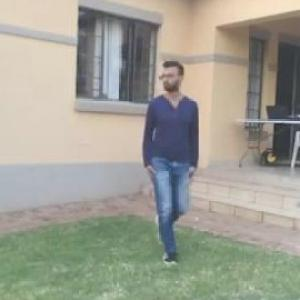follow: (138, 52, 203, 271)
